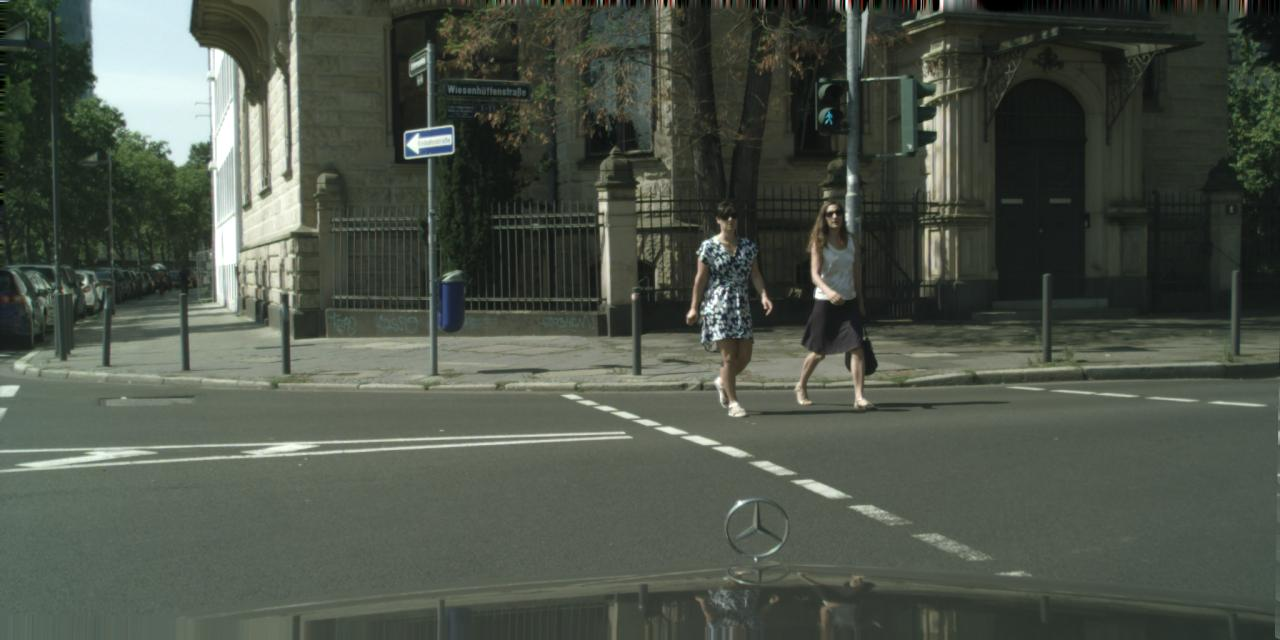ped: (686, 200, 775, 417), (789, 198, 874, 404), (178, 263, 191, 296)
